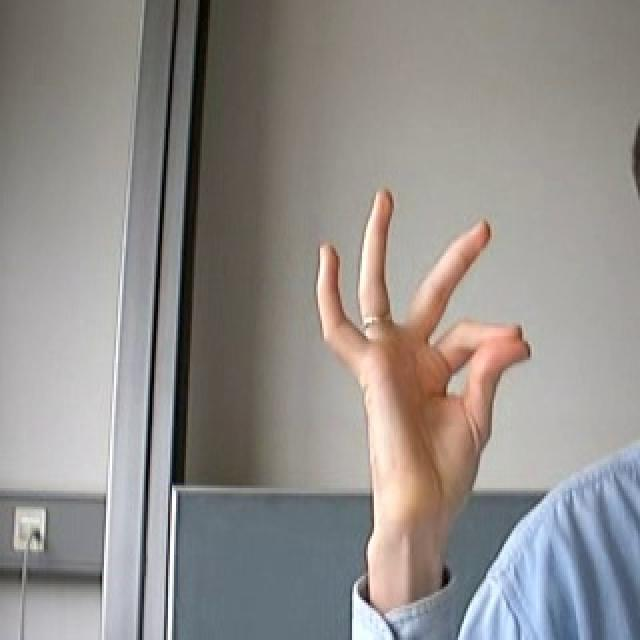F: (313, 172, 553, 526)
